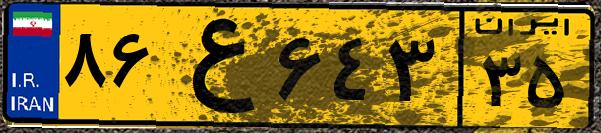3: (385, 28, 445, 110), (475, 38, 525, 113)
4: (330, 28, 385, 110)
5: (525, 38, 570, 115)
6: (270, 28, 330, 110), (110, 28, 158, 98)
8: (57, 26, 110, 100)
ع: (158, 12, 270, 120)
